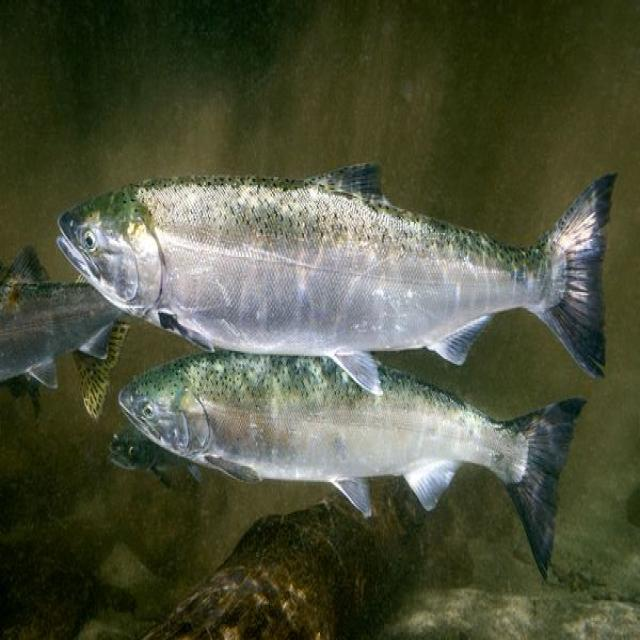salmon: (33, 138, 631, 384), (112, 339, 594, 605)
